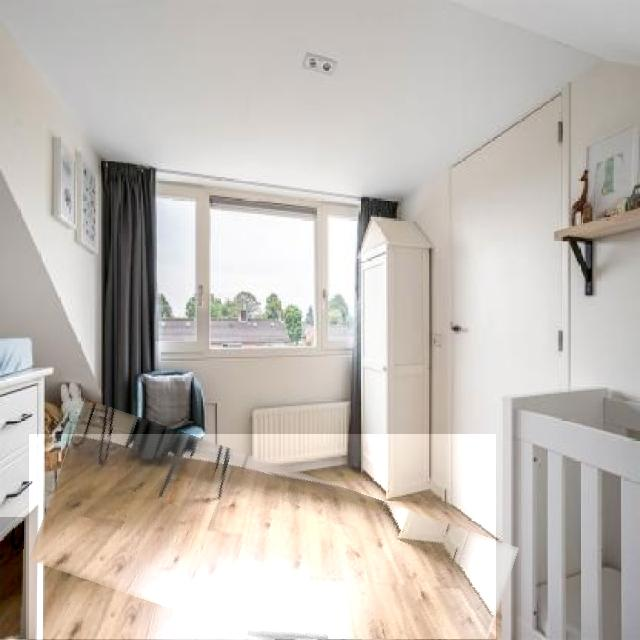floor: (30, 435, 496, 640), (1, 518, 26, 639)
